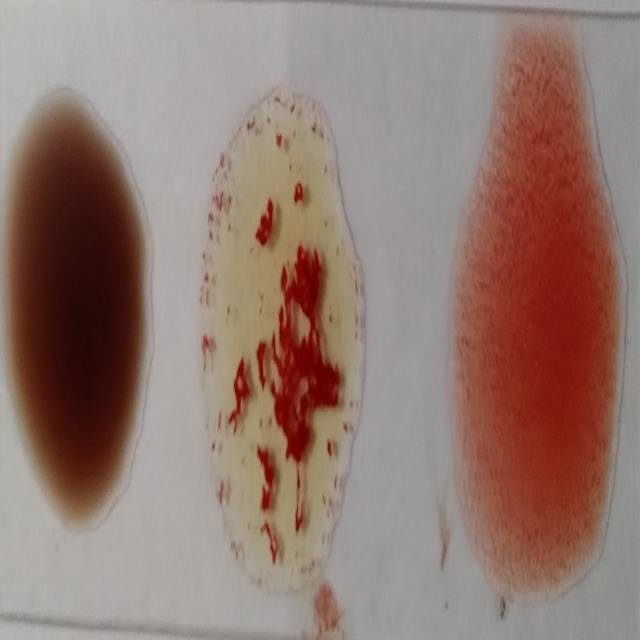B: (201, 93, 361, 589)
D: (465, 41, 619, 601)
